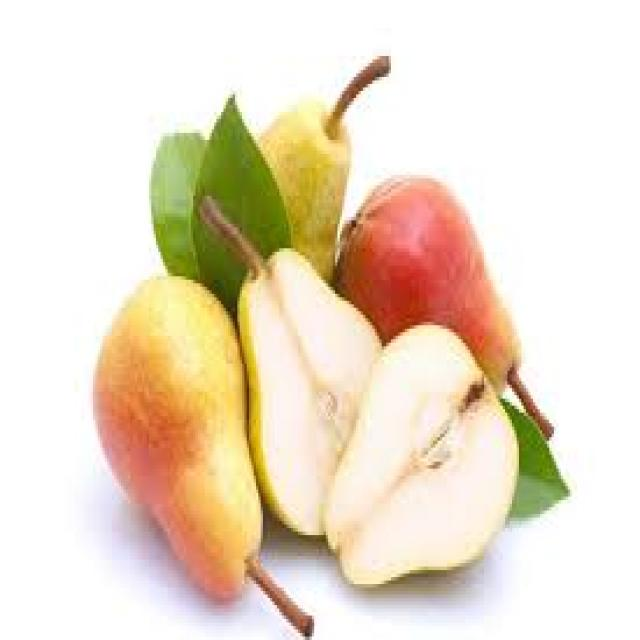biodegradable: (93, 269, 310, 633), (198, 193, 384, 539), (333, 168, 552, 437), (319, 318, 517, 588), (251, 49, 391, 280), (186, 87, 289, 308), (498, 392, 570, 518), (149, 126, 207, 280)
